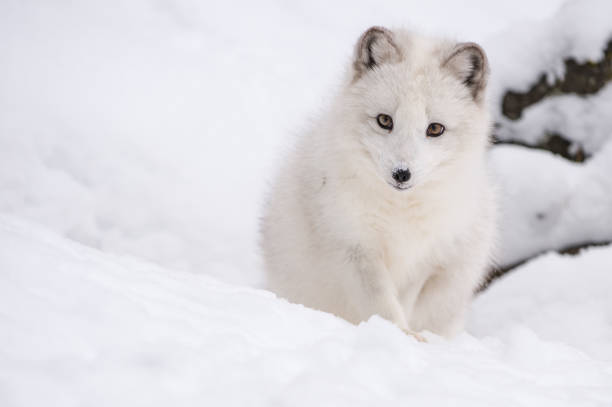arcticfox: (354, 48, 475, 206)
